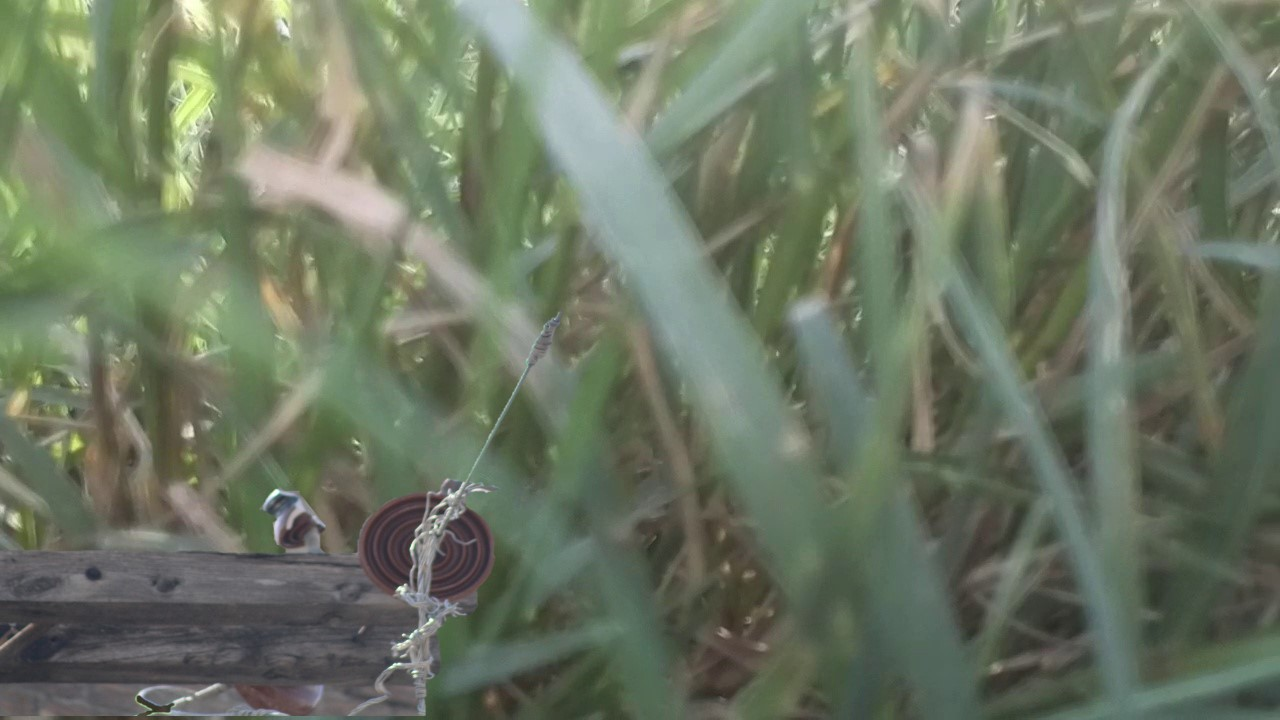defect_pin: (262, 479, 329, 559)
insulator_disc: (356, 484, 503, 610)
